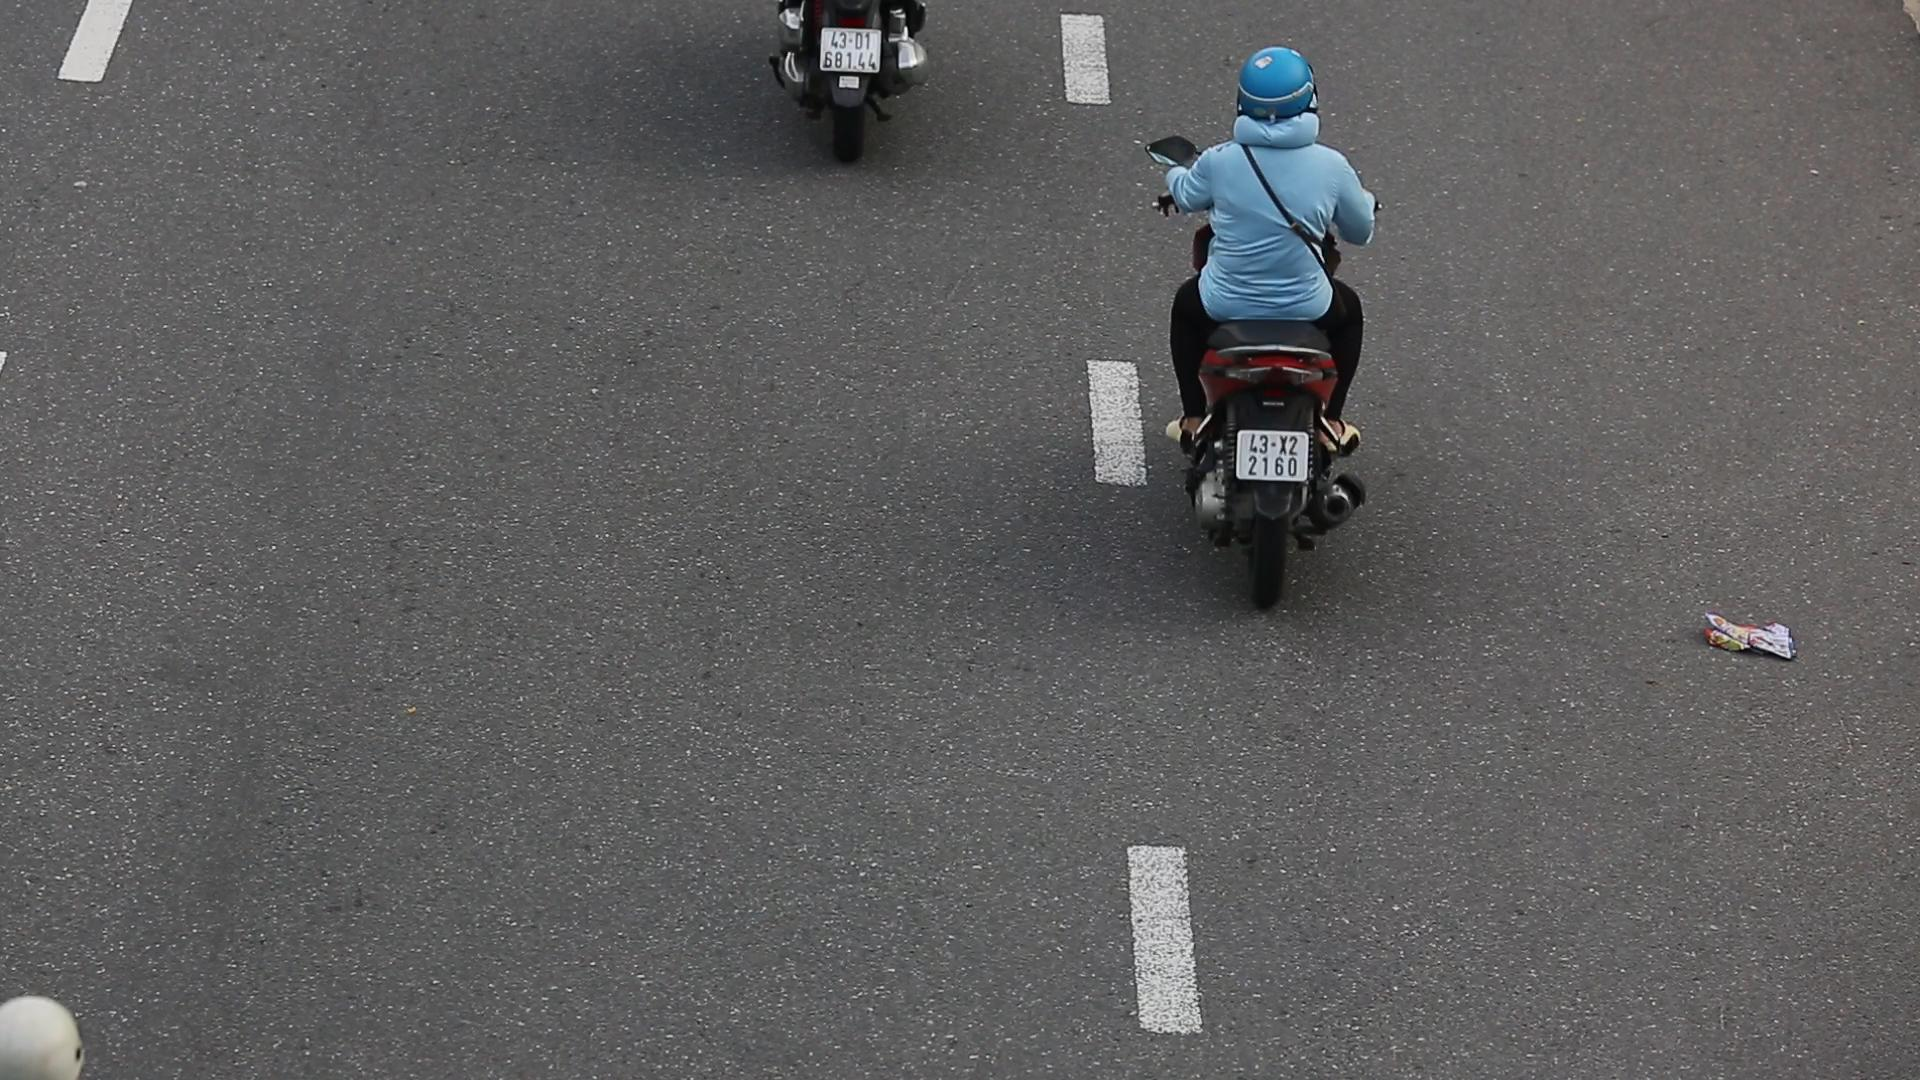motobike: (1137, 33, 1398, 625)
